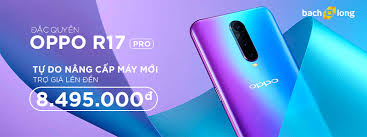oppo: (188, 7, 337, 135)
